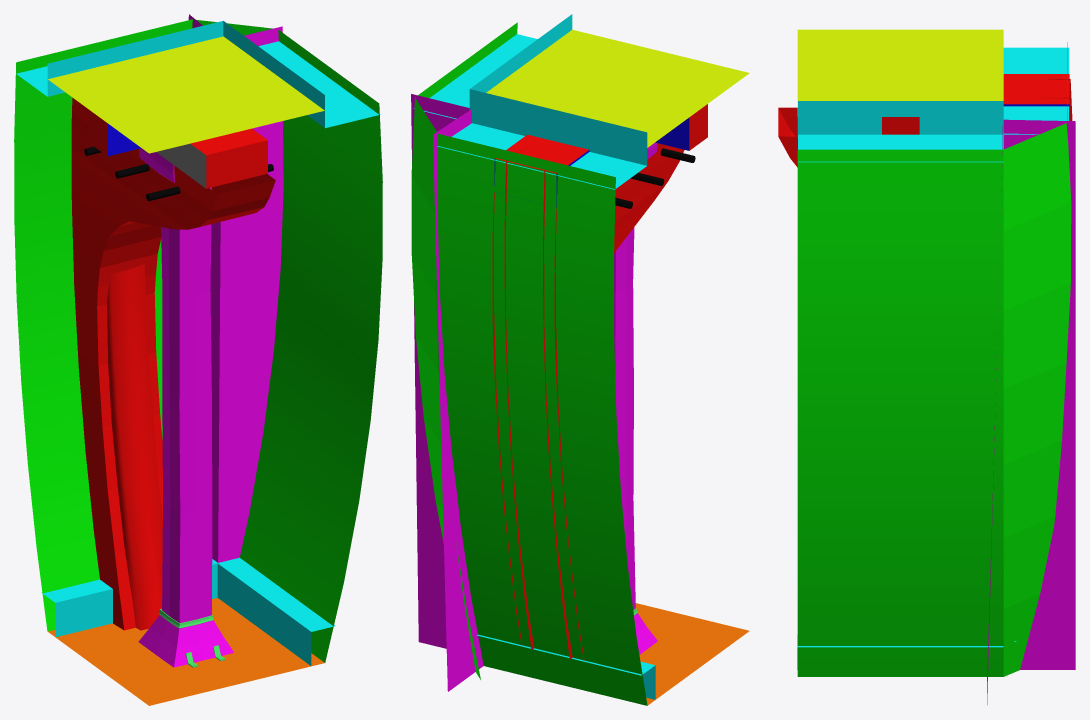
File: E_Tiles.FBX
The picture shows the model from 3 angles, left to right: view 1: azimuth 30°, elevation 25°; view 2: azimuth 150°, elevation 25°; view 3: azimuth 270°, elevation 25°; orthographic projection.
Parts seen in each view (by area): view 1: E_Esquina, E_L, E_Columna, E_Cruz, E_Detalle, E_Vertical, E_Horizontal, E_Pared; view 2: E_Esquina, E_Pared, E_L, E_Horizontal, E_Cruz, E_Columna, E_Vertical, E_Detalle; view 3: E_Esquina, E_L, E_Cruz, E_Horizontal, E_Pared, E_Vertical, E_Columna.
Part boxes in pixels (x1,y1,x2,y2): E_Esquina: (14,14,382,665); E_L: (14,19,323,696); E_Columna: (107,123,234,667); E_Cruz: (48,36,324,696); E_Detalle: (107,264,162,630); E_Vertical: (48,73,323,705); E_Horizontal: (49,73,324,632); E_Pared: (19,71,303,152); E_Esquina: (411,14,655,705); E_Pared: (436,30,720,687); E_L: (438,29,742,670); E_Horizontal: (520,32,749,688); E_Cruz: (486,68,707,705); E_Columna: (614,142,749,654); E_Vertical: (519,30,718,150); E_Detalle: (504,150,572,659); E_Esquina: (797,42,1075,704); E_L: (778,36,1069,641); E_Cruz: (899,29,1003,100); E_Horizontal: (797,29,904,137); E_Pared: (797,39,1071,200); E_Vertical: (797,39,903,100); E_Columna: (882,117,919,134).
Bounding box in the file's own units: 133 × 309 × 145.
